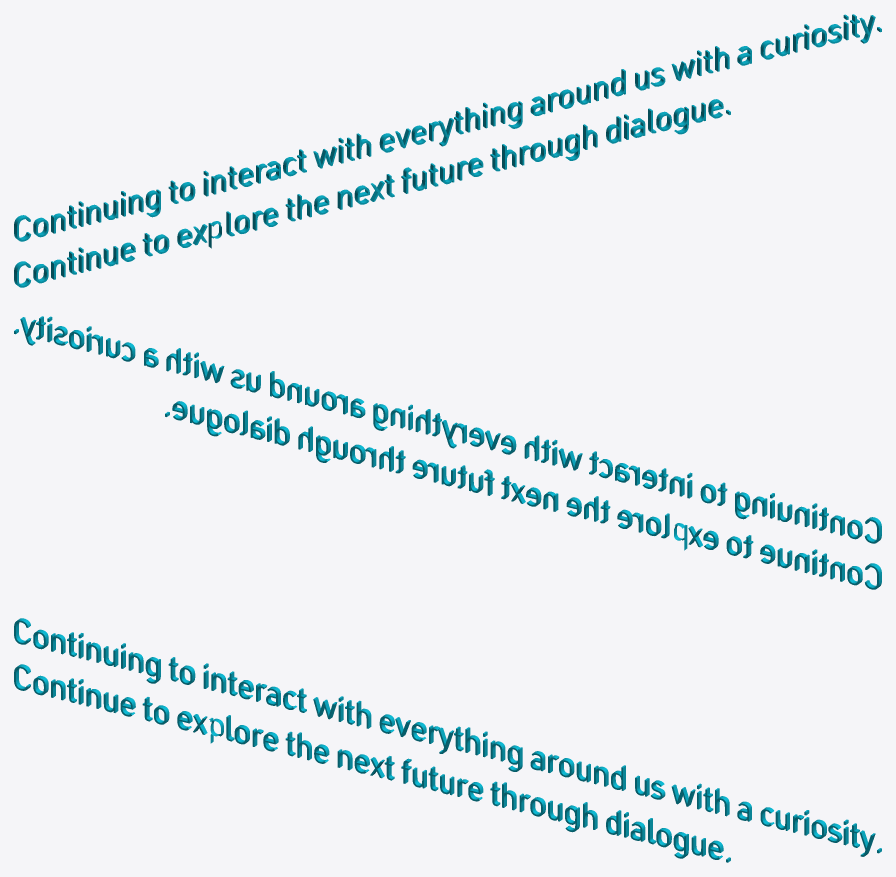
The picture shows the model from 3 angles, top to bottom: view 1: azimuth 30°, elevation 25°; view 2: azimuth 150°, elevation 25°; view 3: azimuth 330°, elevation 25°; orthographic projection.
Size of the model in its own units: 3.34 by 0.2845 by 0.02.
